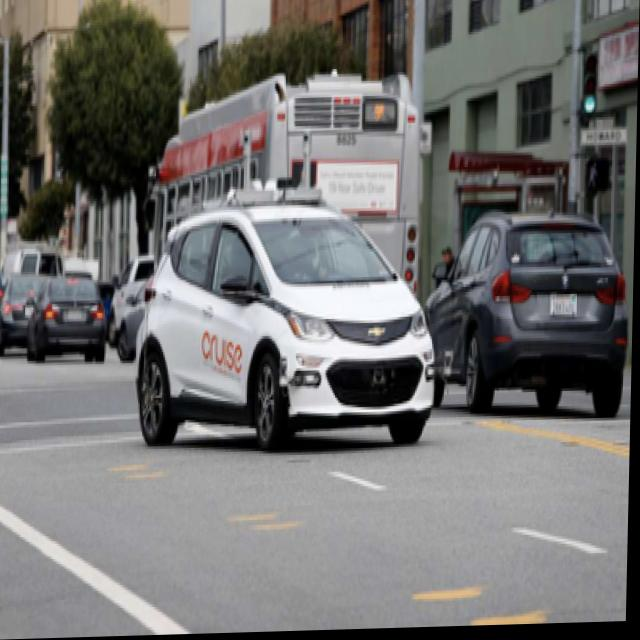licence: (548, 295, 580, 321)
